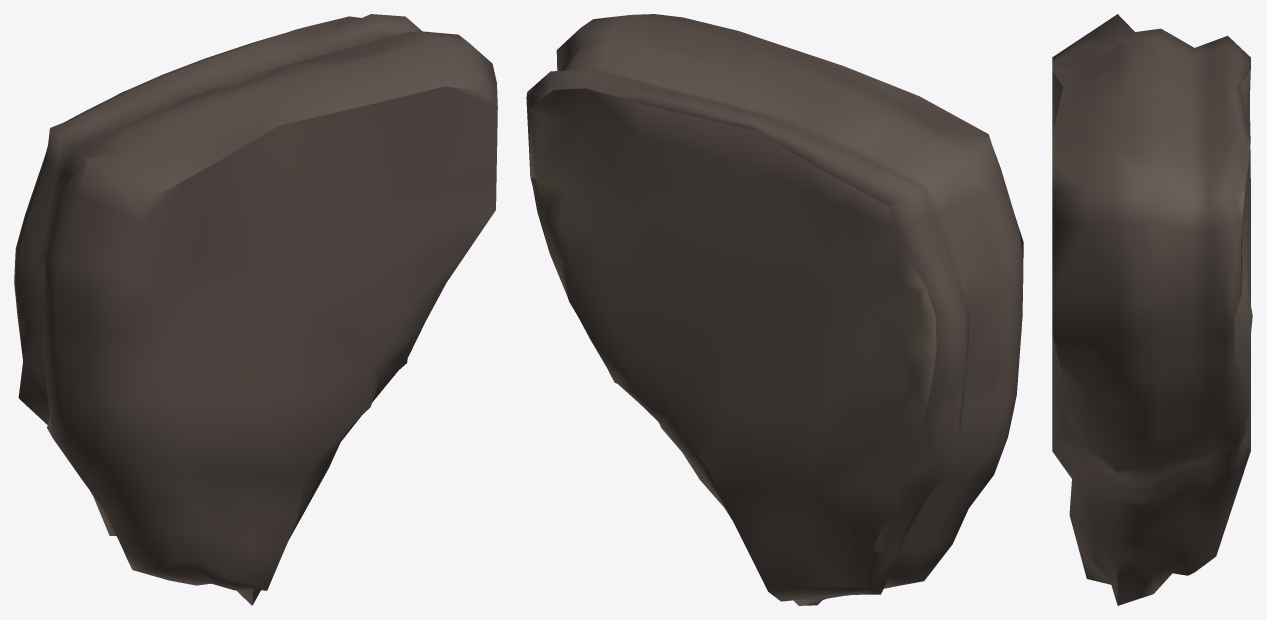
File: SharpRock.001.glb
3 views of the same model, side by side, from view 1: azimuth 30°, elevation 25°; view 2: azimuth 150°, elevation 25°; view 3: azimuth 270°, elevation 25° (orthographic). The views are drawn at different scales.
Parts seen in each view (by area): view 1: SharpRock.001; view 2: SharpRock.001; view 3: SharpRock.001.
Part boxes in pixels (x1=…): SharpRock.001: x1=14, y1=14, x2=497, y2=605; SharpRock.001: x1=526, y1=14, x2=1023, y2=605; SharpRock.001: x1=1052, y1=14, x2=1252, y2=605.
Size of the model in its own units: 530 by 604 by 202.
